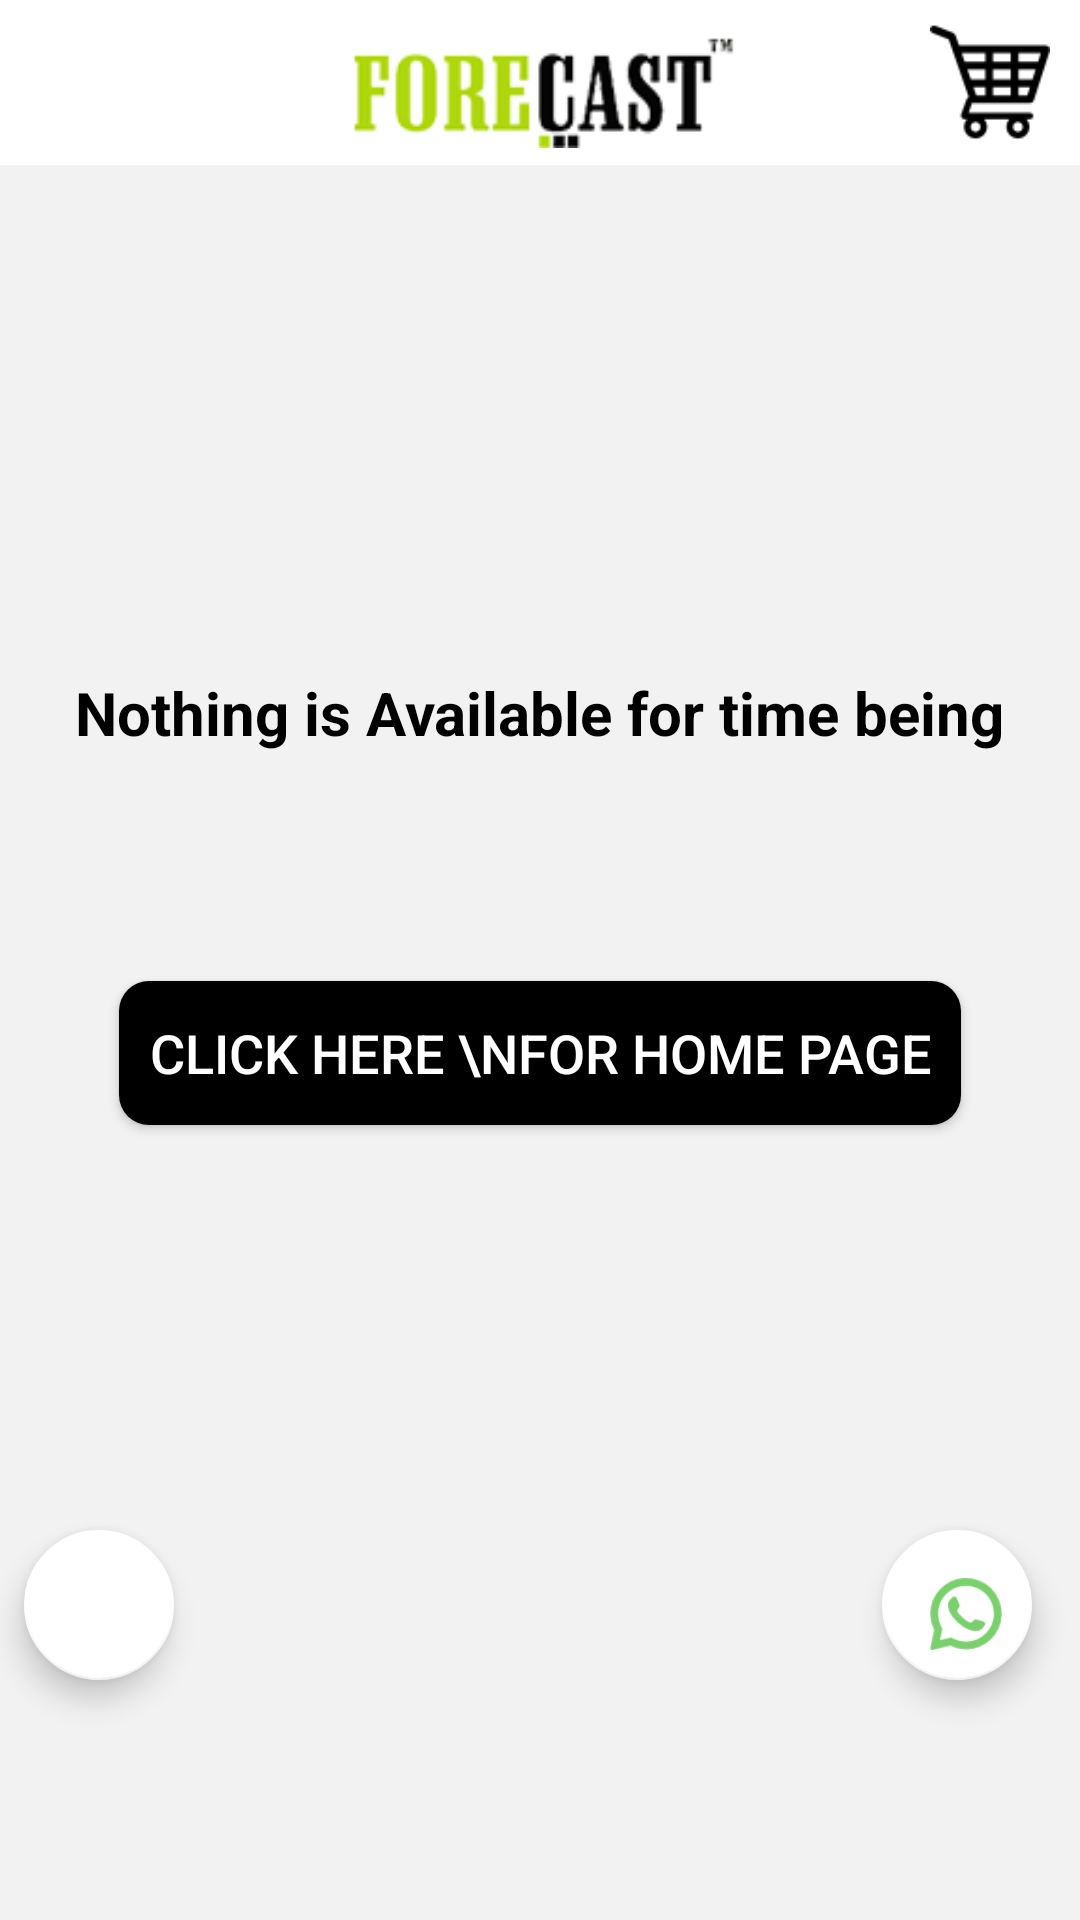

Named icons in this screenshot (1080w x 1920h) and their bounding boxes, [left=x1, top=y1, right=x2, bottom=y2]:
caart: [left=930, top=25, right=1050, bottom=139]
